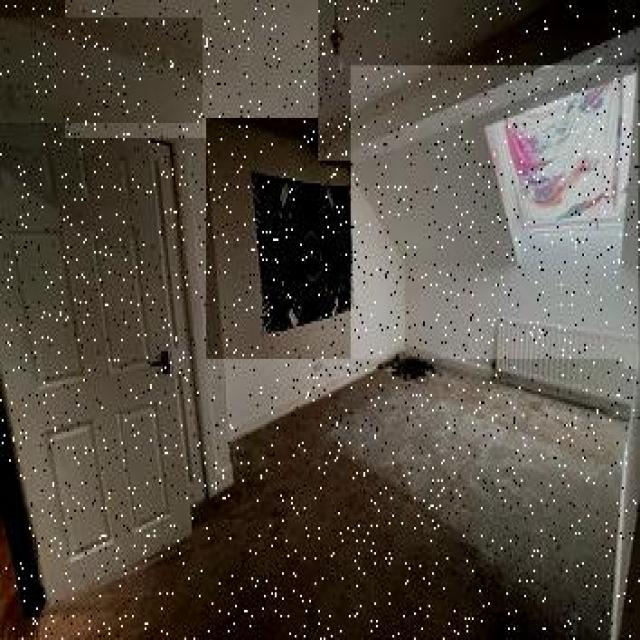Wall: (34, 360, 624, 637), (352, 67, 640, 369), (66, 0, 548, 138), (206, 118, 405, 439), (319, 0, 640, 161), (0, 18, 202, 122), (0, 508, 38, 637)
